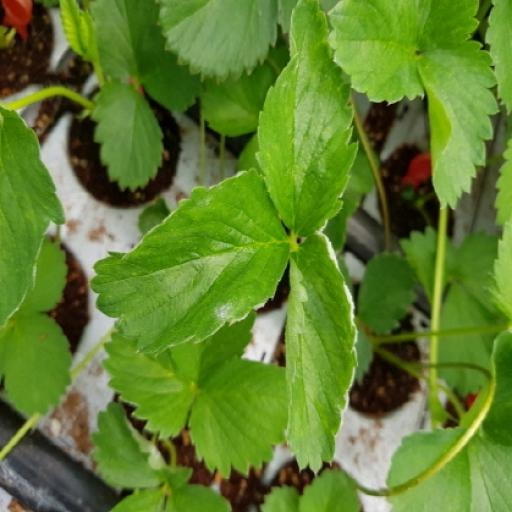Powdery Mildew Leaf: (220, 167, 424, 354), (154, 231, 227, 476)
